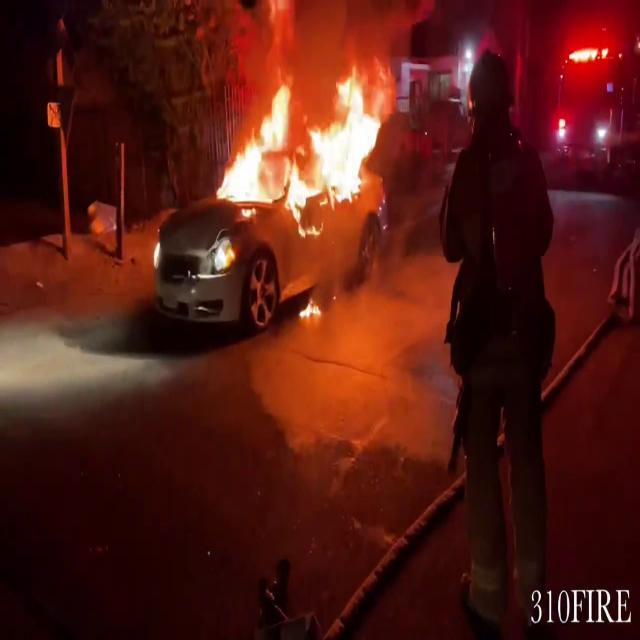Fire: (211, 58, 389, 224), (298, 294, 324, 324)
